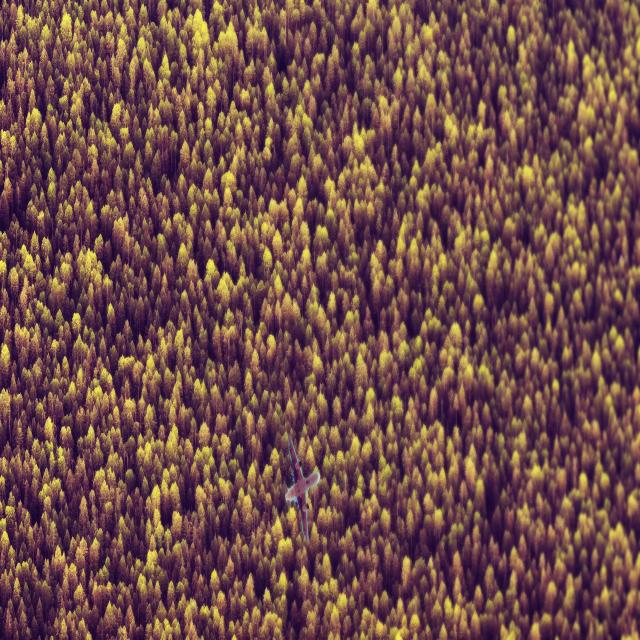airplane: (284, 434, 320, 542)
